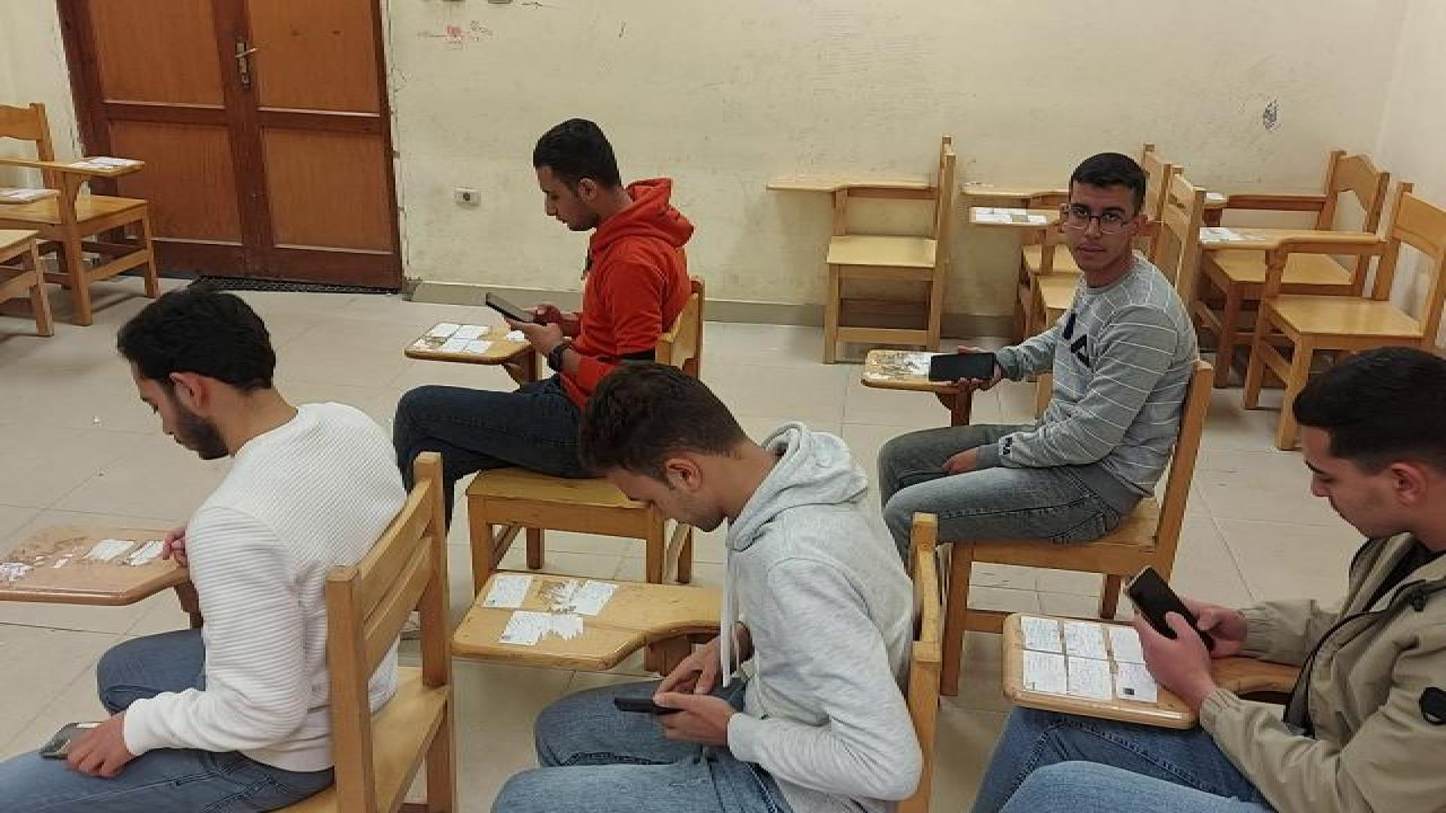phone: (1117, 562, 1219, 668), (36, 720, 131, 765), (922, 351, 1003, 391), (480, 290, 537, 328), (609, 689, 674, 722)
